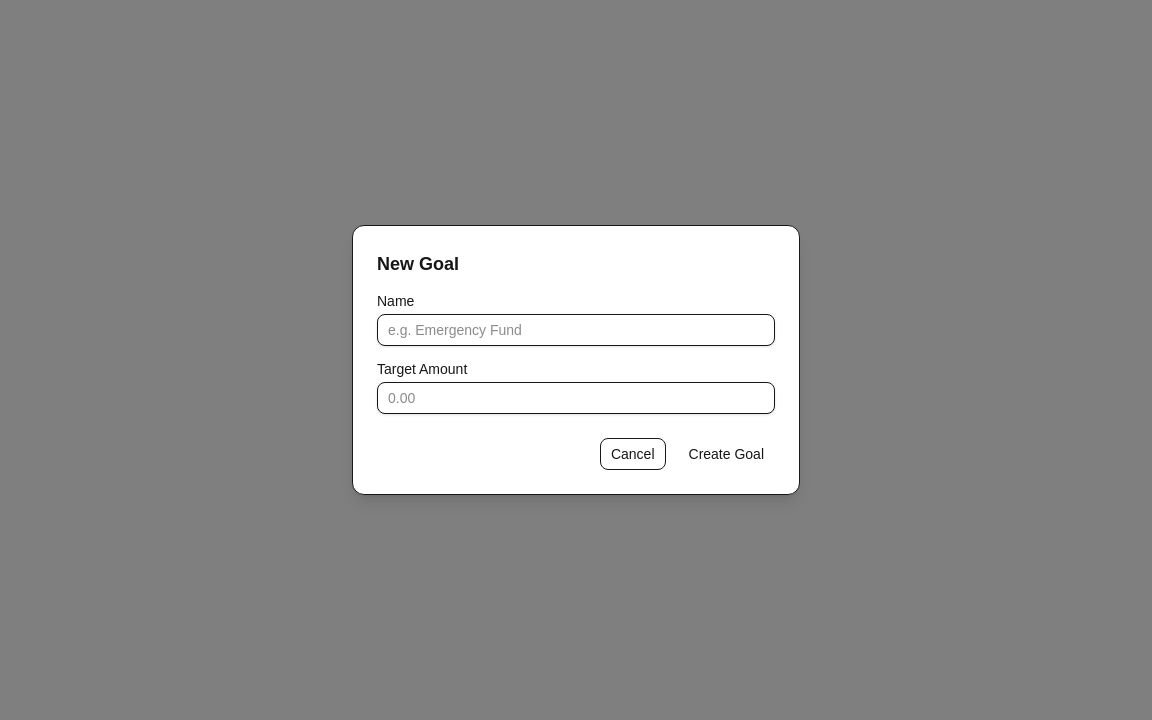
Test: NewSavingsGoalDialog › Validation: target must be a positive number › shows a target amount error when target is empty
The image size is (1152, 720).
Type "My Goal" into the field labelled "Name" at (576, 330), box [377,314,775,346]
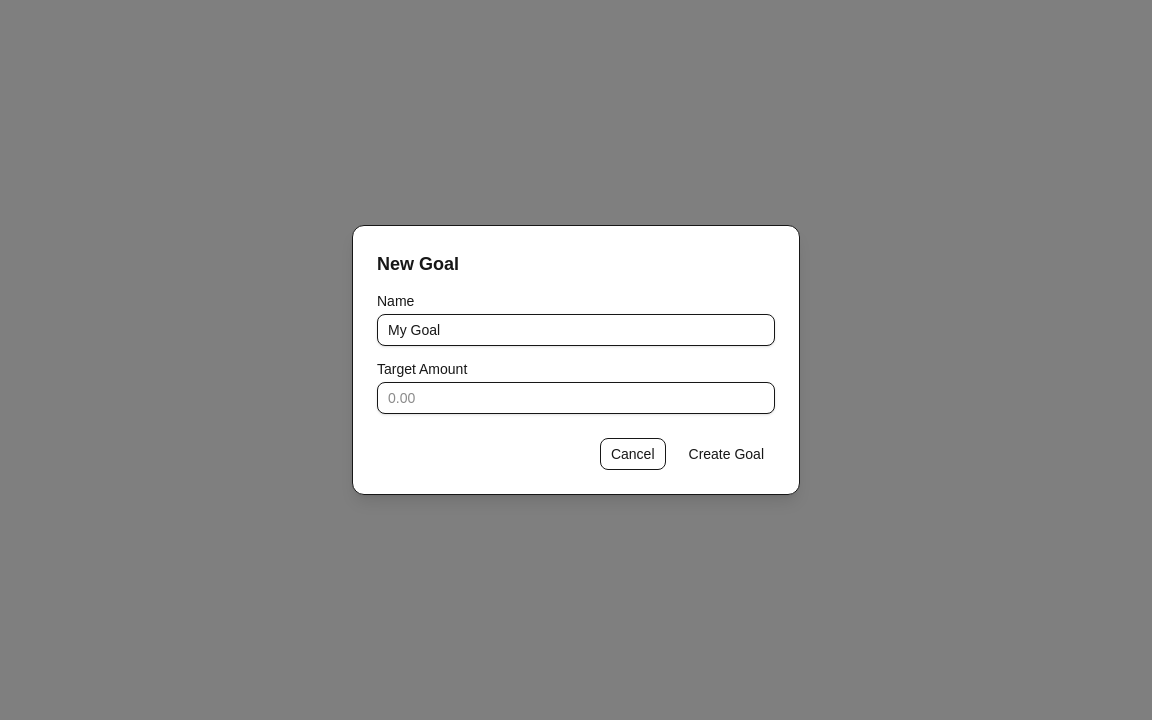
Submit the form, box [377,294,775,470]
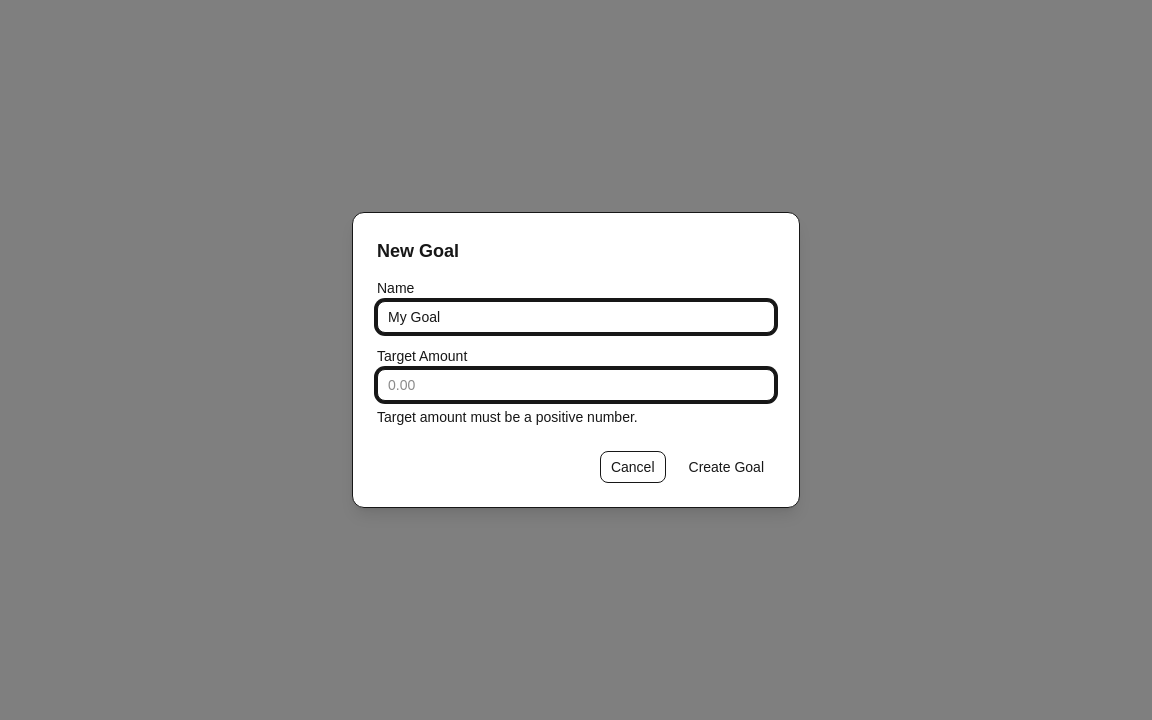
Now the text "Target amount must be a positive number." is shown, box [377,409,638,425]
